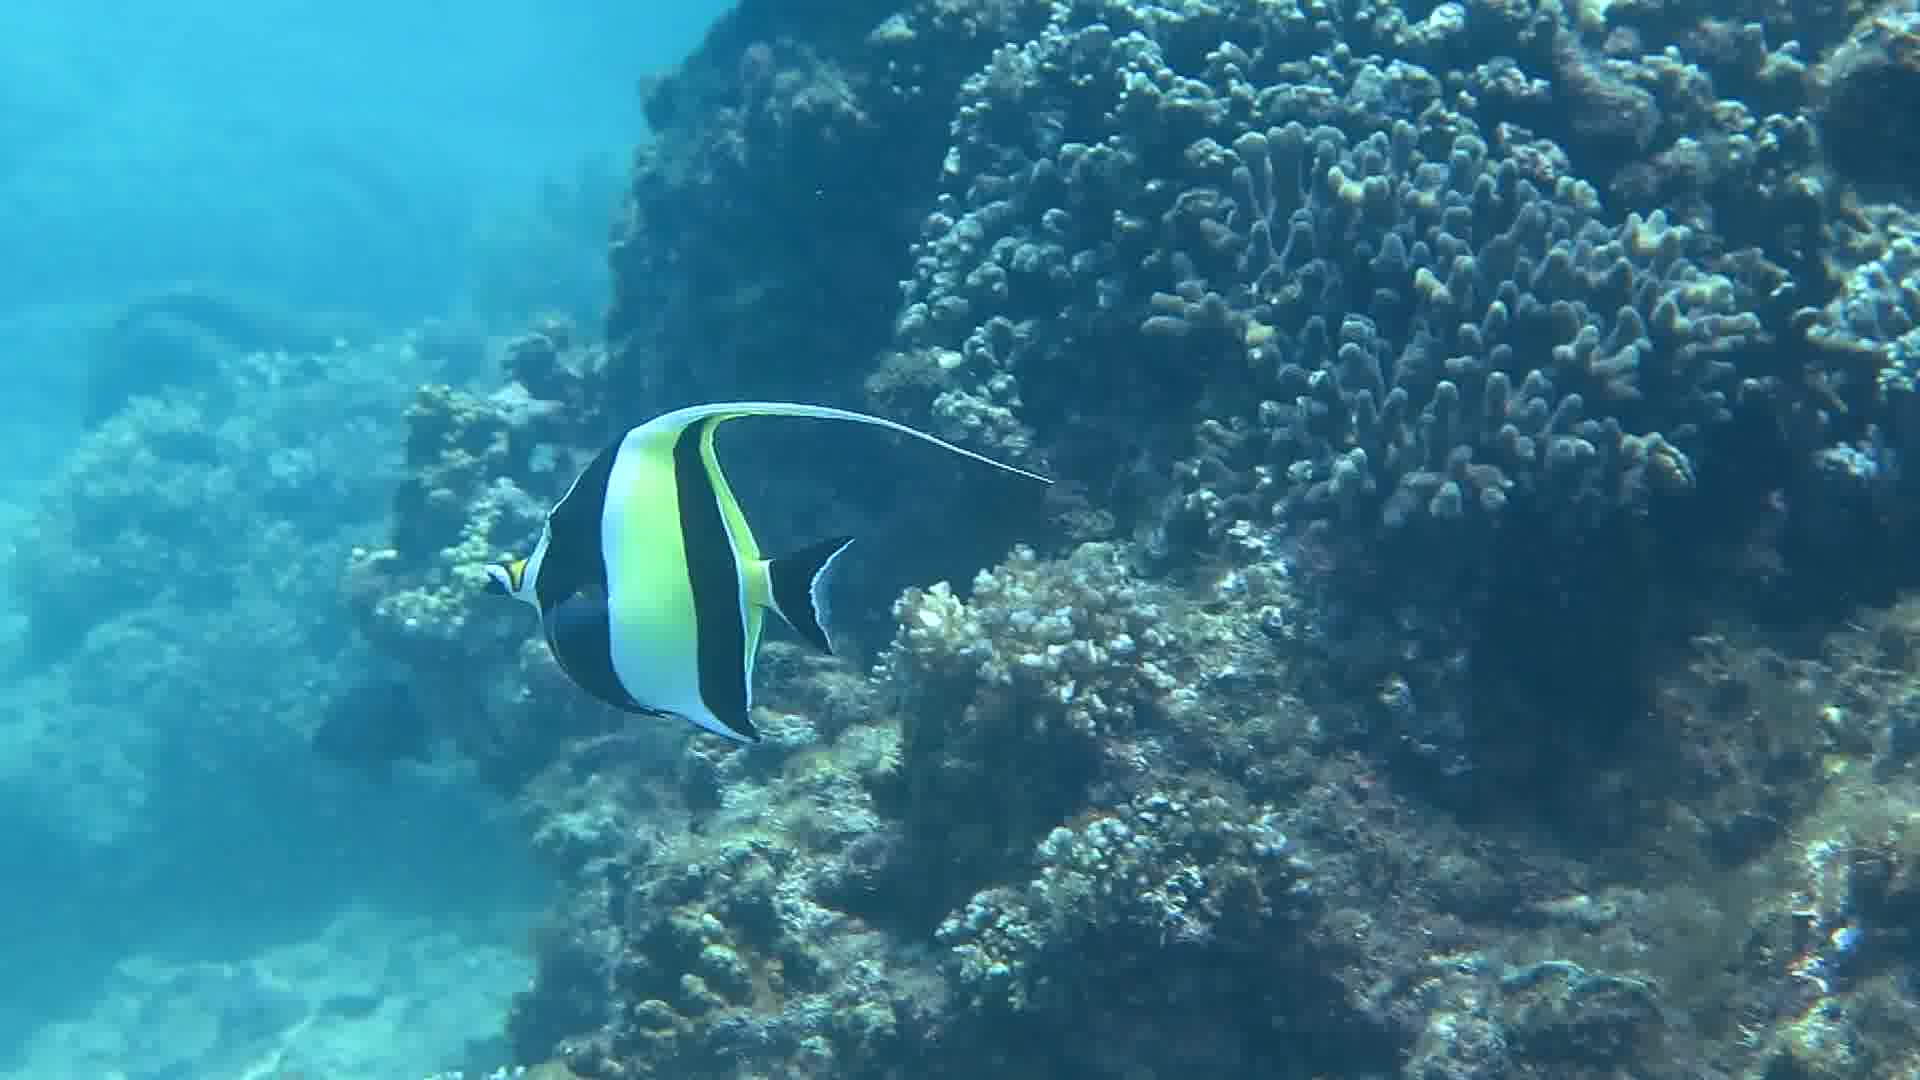Zanclus cornutus: (481, 342, 837, 761)
